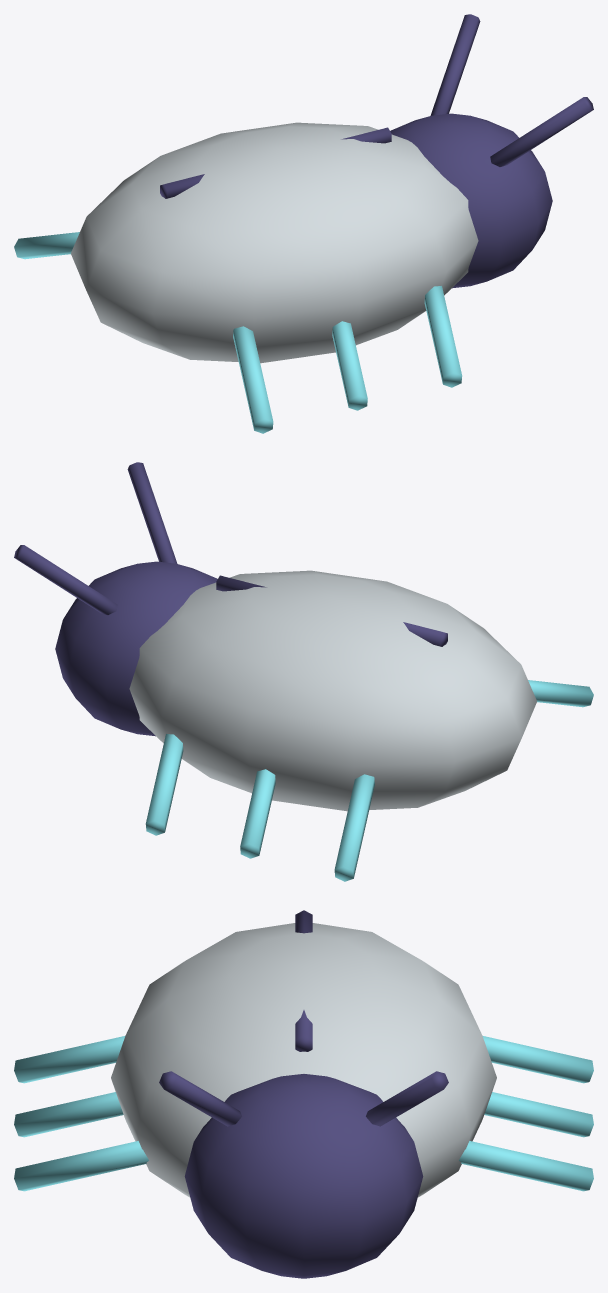
Rendered from snow_beetle.glb.
3 renders of one model, top to bottom at view 1: azimuth 30°, elevation 25°; view 2: azimuth 150°, elevation 25°; view 3: azimuth 270°, elevation 25°, orthographic. The views are drawn at different scales.
Parts seen in each view (by area): view 1: body.006, head.005, leg_0_-1.001, leg_2_-1.001, antenna_-1.004, leg_1_-1.001, antenna_1.004, leg_0_1.001, wing_seam.001; view 2: body.006, head.005, leg_0_1.001, leg_2_1.001, antenna_1.004, leg_1_1.001, antenna_-1.004, leg_0_-1.001, wing_seam.001; view 3: body.006, head.005, leg_2_-1.001, leg_2_1.001, leg_0_-1.001, leg_0_1.001, leg_1_-1.001, leg_1_1.001, antenna_-1.004, antenna_1.004, wing_seam.001.
Boxes of the visible parts, bbox=[...] form: body.006: bbox=[71, 122, 478, 363]; head.005: bbox=[390, 113, 552, 288]; leg_0_-1.001: bbox=[233, 326, 273, 433]; leg_2_-1.001: bbox=[424, 286, 462, 387]; antenna_-1.004: bbox=[490, 97, 593, 166]; leg_1_-1.001: bbox=[332, 321, 367, 410]; antenna_1.004: bbox=[430, 14, 480, 115]; leg_0_1.001: bbox=[14, 232, 79, 259]; wing_seam.001: bbox=[160, 127, 391, 198]; body.006: bbox=[129, 570, 536, 811]; head.005: bbox=[55, 561, 217, 736]; leg_0_1.001: bbox=[334, 774, 374, 881]; leg_2_1.001: bbox=[145, 734, 183, 835]; antenna_1.004: bbox=[14, 545, 117, 614]; leg_1_1.001: bbox=[240, 769, 275, 858]; antenna_-1.004: bbox=[127, 462, 177, 563]; leg_0_-1.001: bbox=[528, 680, 593, 707]; wing_seam.001: bbox=[216, 575, 447, 646]; body.006: bbox=[111, 923, 496, 1197]; head.005: bbox=[184, 1074, 423, 1278]; leg_2_-1.001: bbox=[14, 1141, 148, 1191]; leg_2_1.001: bbox=[459, 1141, 593, 1191]; leg_0_-1.001: bbox=[14, 1036, 125, 1083]; leg_0_1.001: bbox=[482, 1036, 593, 1083]; leg_1_-1.001: bbox=[14, 1092, 123, 1137]; leg_1_1.001: bbox=[484, 1092, 593, 1137]; antenna_-1.004: bbox=[159, 1071, 241, 1126]; antenna_1.004: bbox=[366, 1071, 448, 1126]; wing_seam.001: bbox=[295, 910, 312, 1051].
Bounding box in the file's own units: 2.16 × 1.01 × 2.04.
